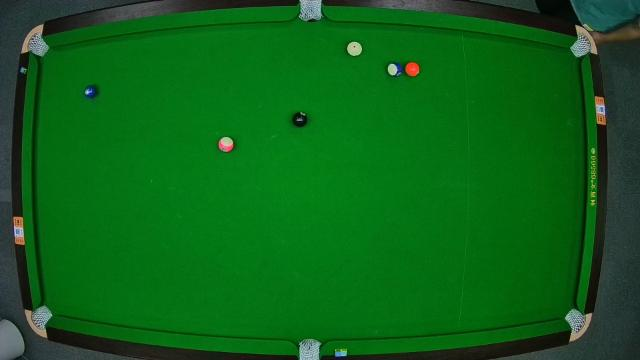bag1: (27, 32, 47, 56)
bag2: (300, 1, 322, 21)
bag3: (570, 36, 594, 58)
bag4: (32, 304, 52, 328)
bag5: (298, 342, 322, 360)
bag6: (567, 311, 585, 333)
ball0: (347, 41, 363, 57)
ball10: (388, 62, 402, 78)
ball12: (218, 136, 235, 154)
ball2: (83, 84, 99, 98)
ball5: (404, 62, 422, 78)
ball8: (293, 112, 309, 126)
